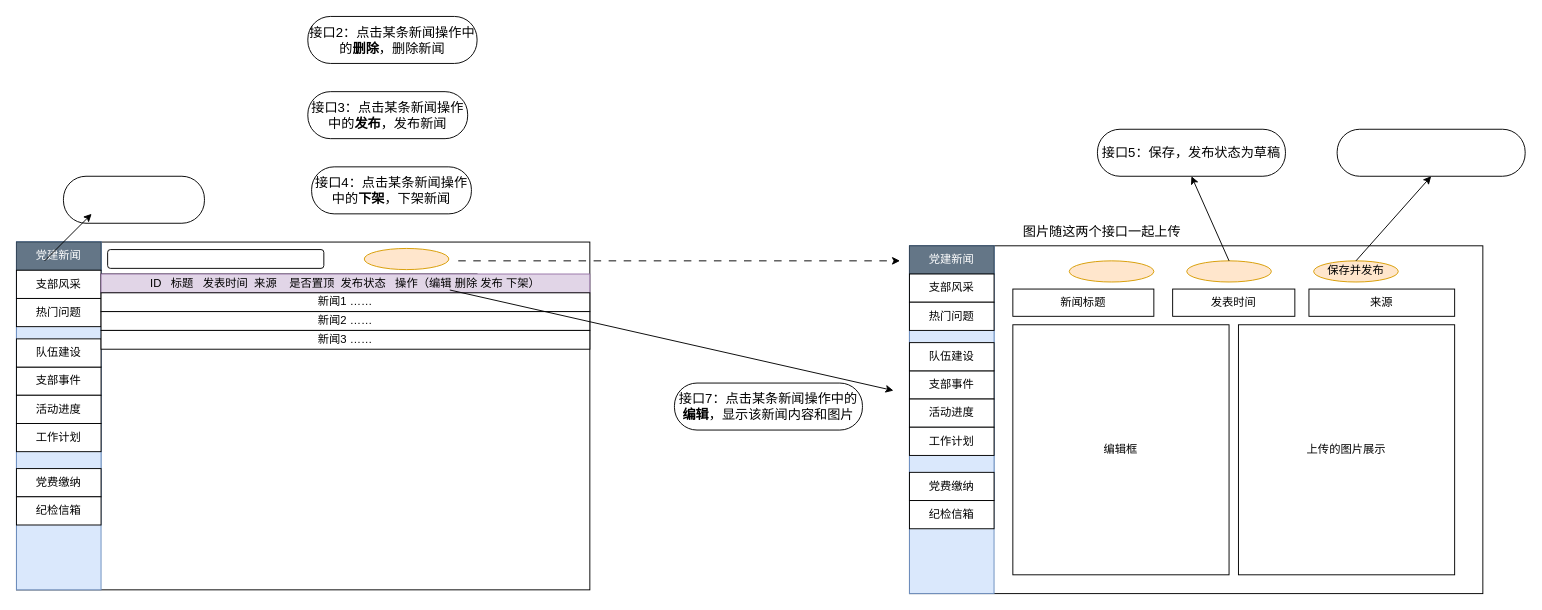
The diagram is 1542 pixels wide and 610 high, and some of its shapes have lost their labels. The centre of each missing label's shape, as x and y in pixels:
上传图片: (1111,271)
上传新闻按钮: (406,259)
保存为草稿: (1228,271)
接口1：点击"党建新闻"，查询所有新闻: (133,199)
接口6：保存，发布状态为发布: (1430,152)
搜索框（前端直接实现，不需要接口）: (215,258)
